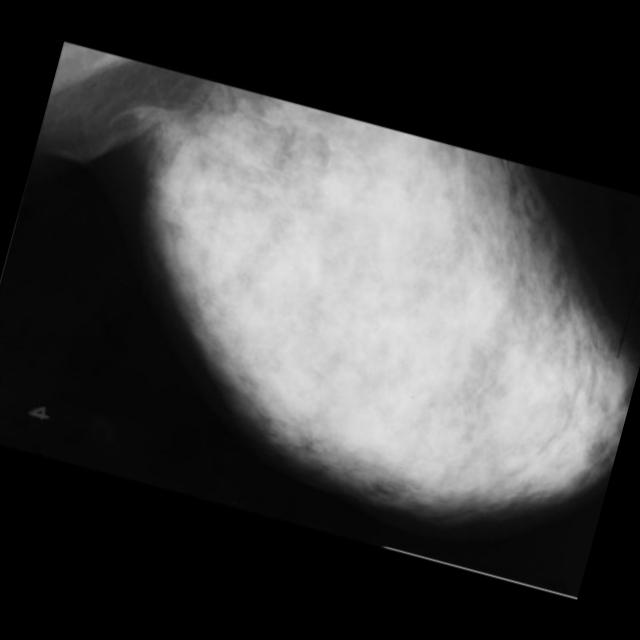CALC: (303, 156, 346, 200)
